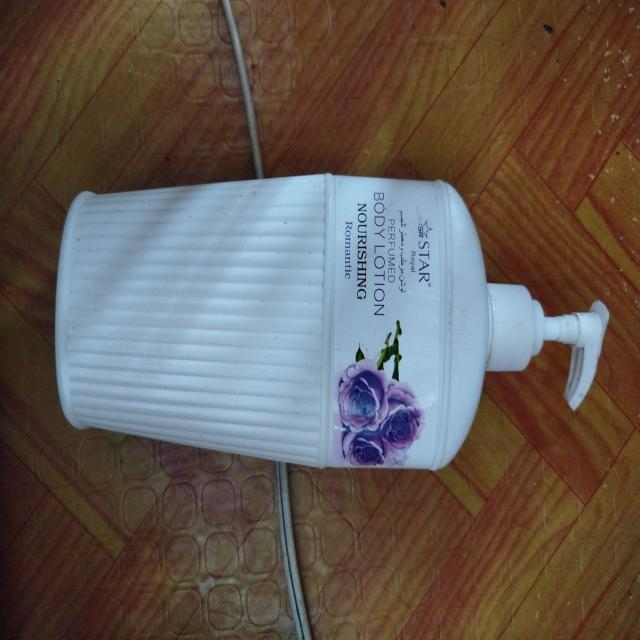plastic: (48, 165, 614, 498)
